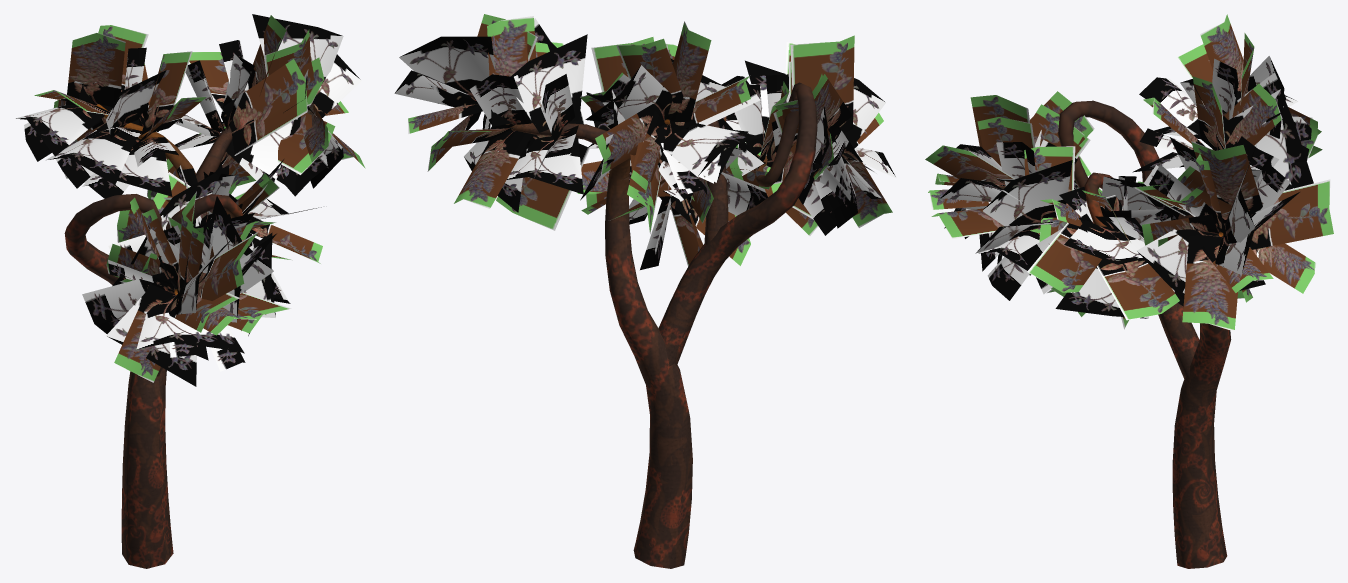
File: Tree_C.dae
The picture shows the model from 3 angles, left to right: view 1: azimuth 30°, elevation 25°; view 2: azimuth 150°, elevation 25°; view 3: azimuth 270°, elevation 25°; orthographic projection. The views are drawn at different scales.
Visible parts, largest first — view 1: Leaves, Tree_C; view 2: Leaves, Tree_C; view 3: Leaves, Tree_C.
Part boxes in pixels (bbox=[...]): Leaves: bbox=[15, 14, 365, 386]; Tree_C: bbox=[64, 104, 242, 568]; Leaves: bbox=[394, 14, 896, 269]; Tree_C: bbox=[508, 82, 817, 568]; Leaves: bbox=[925, 14, 1333, 331]; Tree_C: bbox=[1058, 100, 1231, 568].
Size of what is drawn, in the model's own units: 972 by 1351 by 956.
